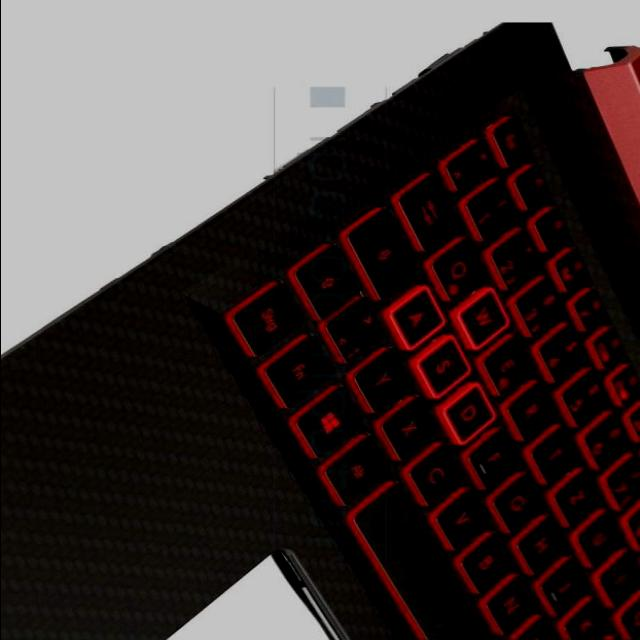1: (460, 173, 522, 241)
2: (485, 227, 547, 291)
3: (508, 275, 568, 339)
4: (531, 320, 591, 385)
5: (556, 367, 614, 429)
6: (577, 408, 633, 470)
7: (601, 452, 640, 513)
8: (623, 490, 640, 552)
a: (386, 285, 442, 347)
alt-left: (316, 430, 396, 508)
b: (450, 530, 518, 596)
c: (401, 442, 468, 508)
caret: (441, 138, 499, 189)
d: (435, 381, 497, 445)
e: (478, 332, 540, 398)
f: (464, 427, 524, 491)
g: (487, 470, 549, 534)
h: (511, 515, 571, 575)
i: (593, 548, 640, 606)
j: (535, 556, 595, 616)
k: (558, 593, 620, 639)
keyboard: (224, 113, 640, 639)
less: (317, 295, 386, 365)
n: (480, 574, 544, 636)
o: (613, 589, 640, 639)
q: (425, 236, 490, 302)
r: (501, 379, 559, 442)
s: (409, 333, 475, 399)
shift-left: (289, 239, 361, 321)
shift-lock: (339, 206, 425, 302)
space: (346, 483, 504, 639)
strg-left: (223, 274, 309, 359)
t: (522, 426, 585, 486)
tab: (392, 169, 465, 252)
u: (572, 510, 628, 567)
v: (426, 487, 494, 553)
w: (450, 287, 510, 351)
x: (374, 393, 443, 464)
y: (347, 345, 416, 414)
z: (549, 468, 605, 528)
